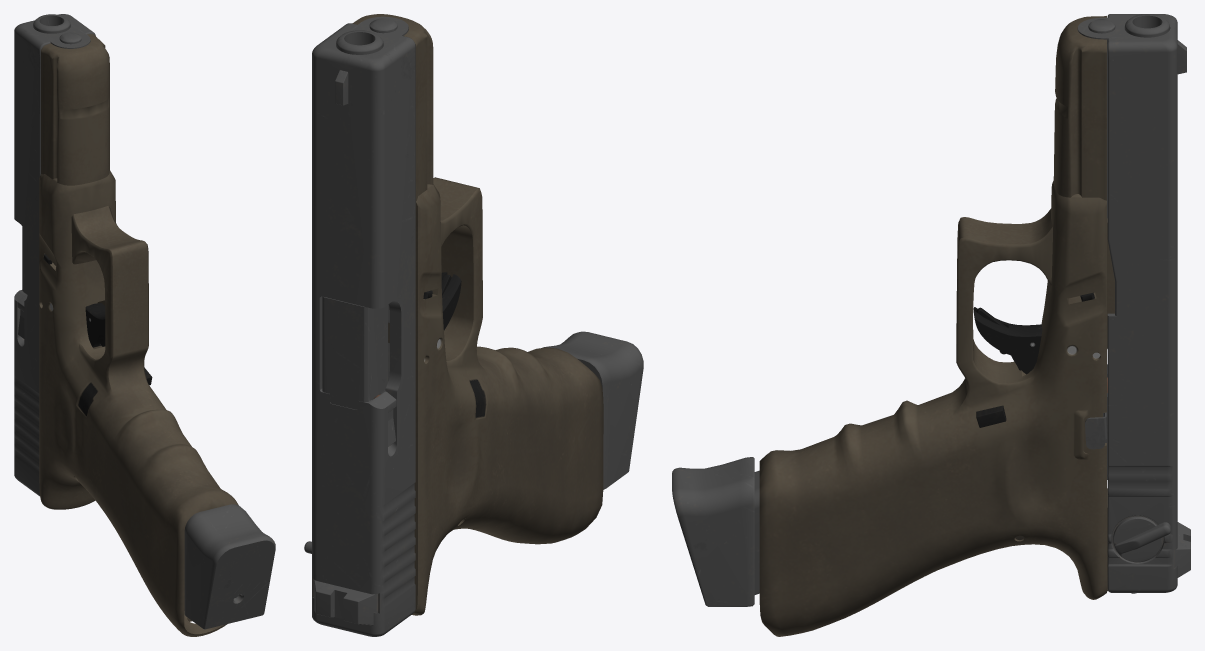
The model's file is glock18.glb.
3 views of the same model, side by side, from view 1: azimuth 30°, elevation 25°; view 2: azimuth 150°, elevation 25°; view 3: azimuth 270°, elevation 25° (orthographic). The views are drawn at different scales.
Parts seen in each view (by area): view 1: WeaponGrip; view 2: WeaponGrip; view 3: WeaponGrip.
Boxes of the visible parts, left/top/right/bottom form: WeaponGrip: left=14, top=14, right=275, bottom=636; WeaponGrip: left=304, top=14, right=643, bottom=636; WeaponGrip: left=672, top=14, right=1190, bottom=636.
Bounding box in the file's own units: 0.032 × 0.22 × 0.1695.
1 material, 1 textured.
